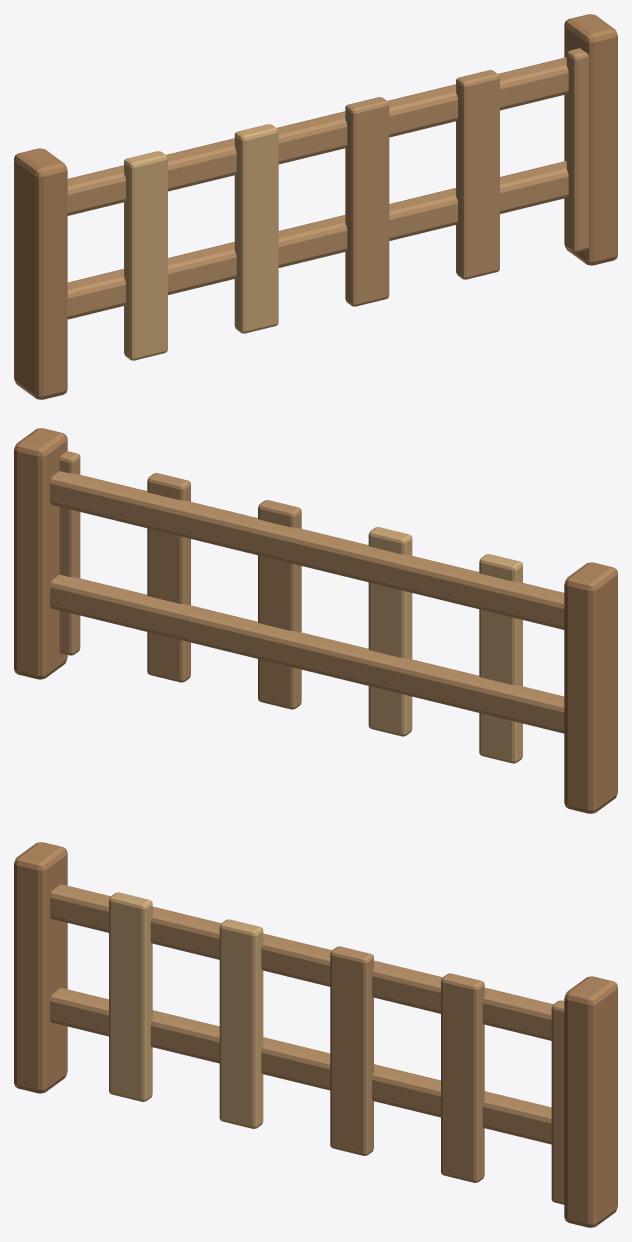
File: fence_low_2m.glb
3 renders of one model, top to bottom at view 1: azimuth 30°, elevation 25°; view 2: azimuth 150°, elevation 25°; view 3: azimuth 330°, elevation 25°, orthographic.
Visible parts, largest first — view 1: fence_low_2m; view 2: fence_low_2m; view 3: fence_low_2m.
Boxes of the visible parts, left/top/right/bottom form: fence_low_2m: left=14, top=14, right=617, bottom=399; fence_low_2m: left=14, top=428, right=617, bottom=813; fence_low_2m: left=14, top=842, right=617, bottom=1227.
Size of the model in its own units: 2 by 0.76 by 0.16.
